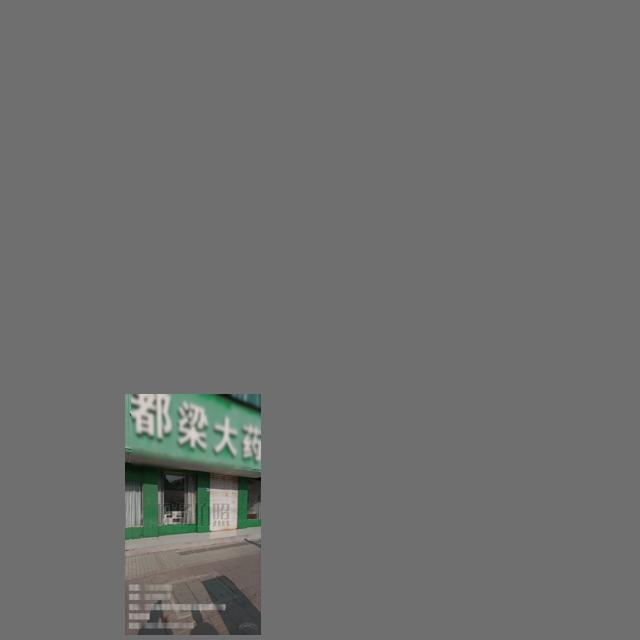good: (167, 572, 234, 616)
